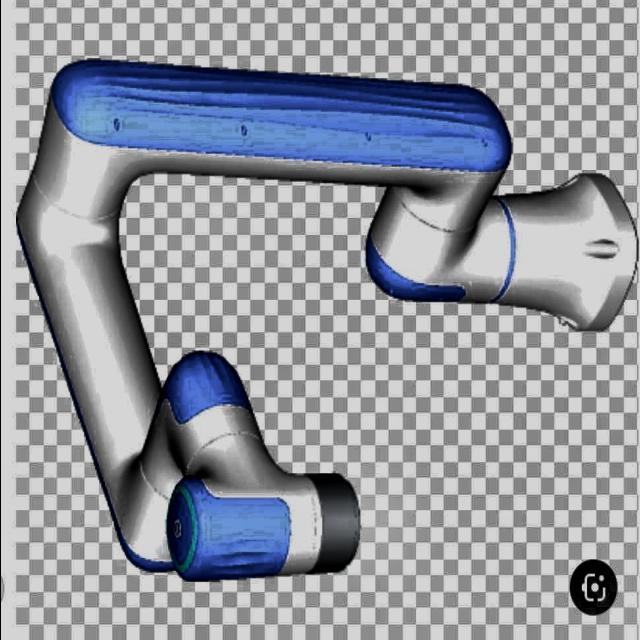robot: (14, 59, 637, 583)
